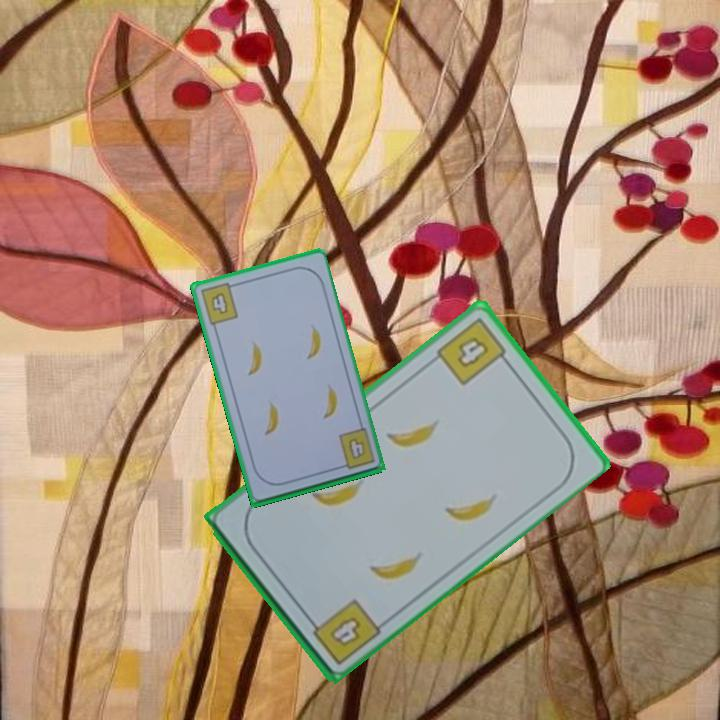4b: (432, 313, 513, 389), (302, 595, 383, 668), (197, 279, 241, 328), (334, 425, 377, 472)
